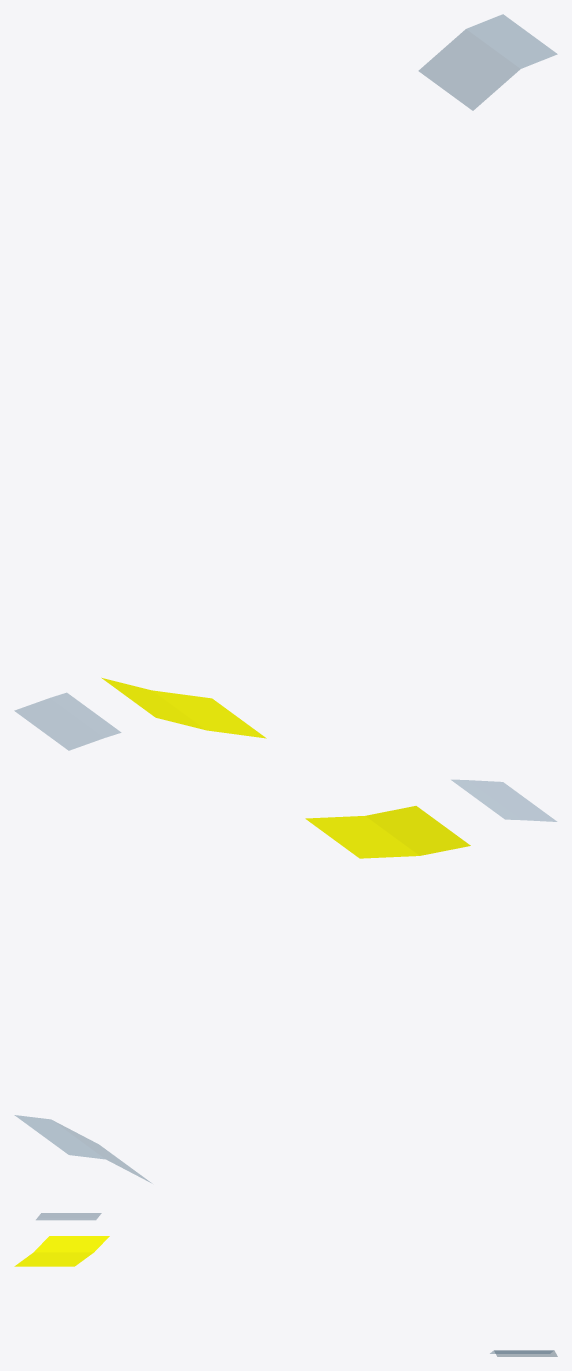
3 renders of one model, top to bottom at view 1: azimuth 30°, elevation 25°; view 2: azimuth 210°, elevation 25°; view 3: azimuth 270°, elevation 25°, orthographic. The views are drawn at different scales.
Parts seen in each view (by area): view 1: line-2LAYER-TEST_LINE1-0000000001, line-2LAYER-TEST_LINE3-0000000001 (×2), line-2LAYER-TEST_LINE2-0000000001, line-2LAYER-TEST_LINE3-0000000000, line-2LAYER-TEST_LINE2-0000000000; view 2: line-2LAYER-TEST_LINE3-0000000001 (×2), line-2LAYER-TEST_LINE3-0000000000, line-2LAYER-TEST_LINE2-0000000001, line-2LAYER-TEST_LINE2-0000000000, line-2LAYER-TEST_LINE1-0000000001; view 3: line-2LAYER-TEST_LINE3-0000000001 (×2), line-2LAYER-TEST_LINE3-0000000000, line-2LAYER-TEST_LINE1-0000000001, line-2LAYER-TEST_LINE2-0000000001.
Boxes of the visible parts, <box> form: line-2LAYER-TEST_LINE1-0000000001: <box>419,29,519,110</box>; line-2LAYER-TEST_LINE3-0000000001 (×2): <box>101,14,557,730</box>; line-2LAYER-TEST_LINE2-0000000001: <box>14,698,103,750</box>; line-2LAYER-TEST_LINE3-0000000000: <box>152,690,266,738</box>; line-2LAYER-TEST_LINE2-0000000000: <box>50,692,121,737</box>; line-2LAYER-TEST_LINE3-0000000001 (×2): <box>15,806,470,1158</box>; line-2LAYER-TEST_LINE3-0000000000: <box>305,816,419,858</box>; line-2LAYER-TEST_LINE2-0000000001: <box>467,780,557,821</box>; line-2LAYER-TEST_LINE2-0000000000: <box>451,779,521,820</box>; line-2LAYER-TEST_LINE1-0000000001: <box>53,1120,150,1182</box>; line-2LAYER-TEST_LINE3-0000000001 (×2): <box>34,1236,553,1353</box>; line-2LAYER-TEST_LINE3-0000000000: <box>14,1252,93,1266</box>; line-2LAYER-TEST_LINE1-0000000001: <box>494,1350,557,1356</box>; line-2LAYER-TEST_LINE2-0000000001: <box>37,1213,101,1217</box>.
Bounding box in the file's own units: 9414 × 1951 × 8965.
